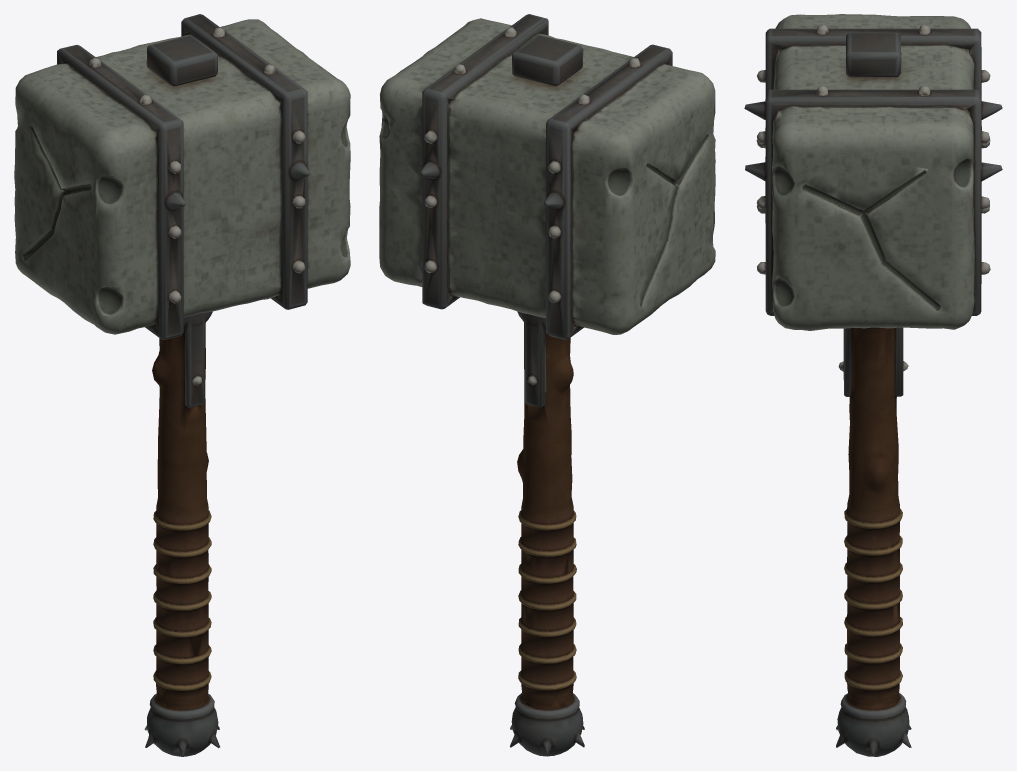
Rendered from boss_brute_hammer_mog.glb.
The picture shows the model from 3 angles, left to right: view 1: azimuth 30°, elevation 25°; view 2: azimuth 150°, elevation 25°; view 3: azimuth 270°, elevation 25°; orthographic projection.
Parts seen in each view (by area): view 1: boss_brute_hammer_mog; view 2: boss_brute_hammer_mog; view 3: boss_brute_hammer_mog.
Boxes of the visible parts, x1,y1,x2,y2 form: boss_brute_hammer_mog: [14, 14, 350, 756]; boss_brute_hammer_mog: [379, 14, 715, 756]; boss_brute_hammer_mog: [744, 14, 1002, 756].
Bounding box in the file's own units: 0.6968 × 1.85 × 0.6084.
1 material, 1 textured.
